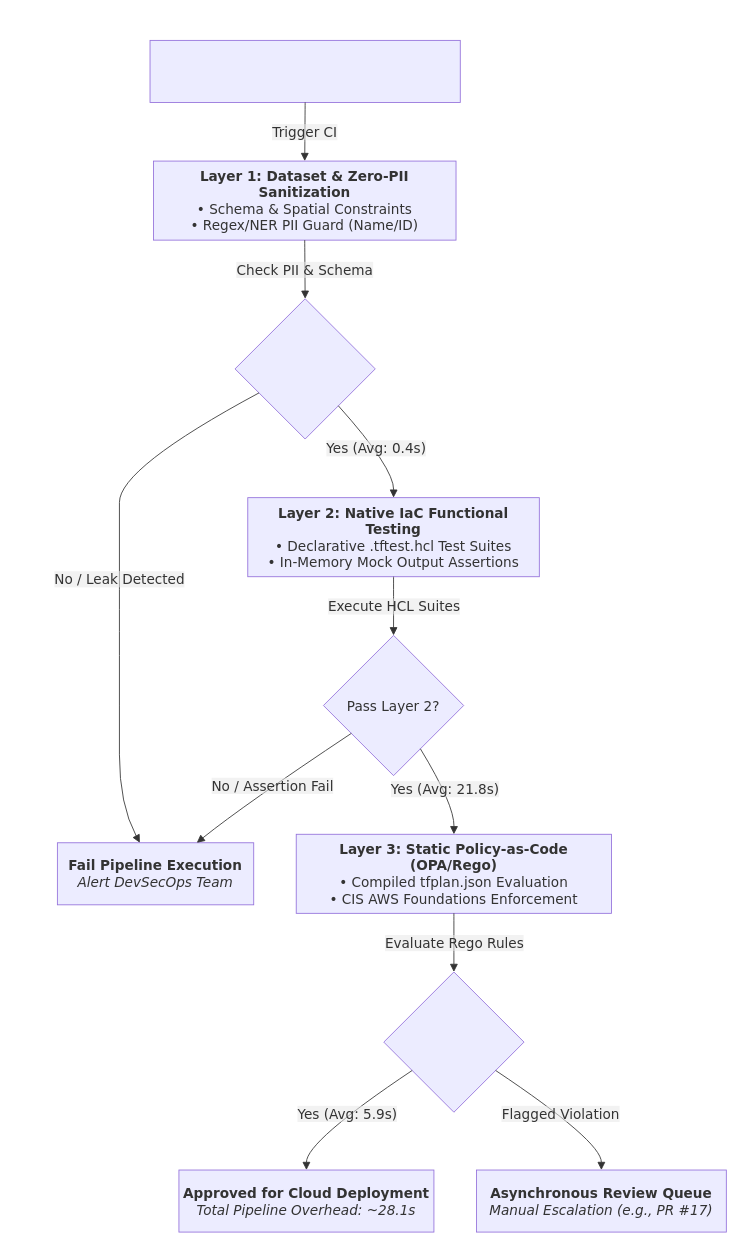
Some shapes in this 741 by 1247 pixel diagram are drawn without their labels. Each missing label, with the centre of its shape:
"Developer Commit / Pull Request GitHub Actions Runner (Ubuntu 22.04 LTS)" goes at point (304, 71).
"Pass Layer 1?" goes at point (304, 368).
"Pass Layer 3?" goes at point (453, 1041).
